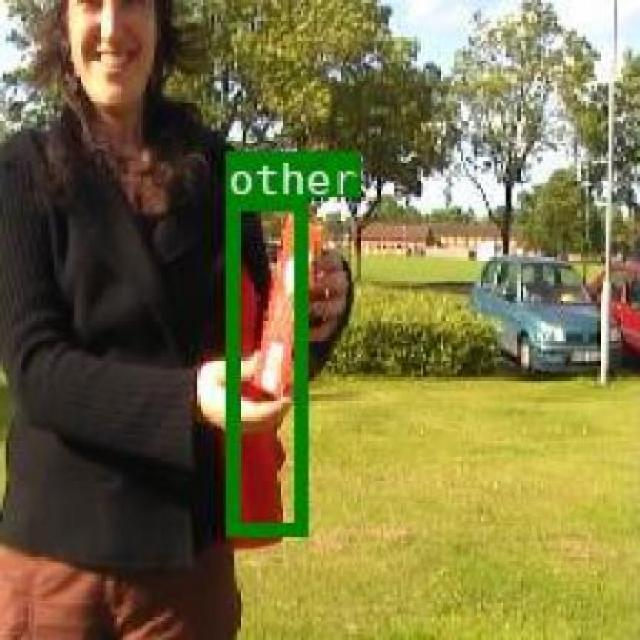other: (224, 197, 304, 534)
